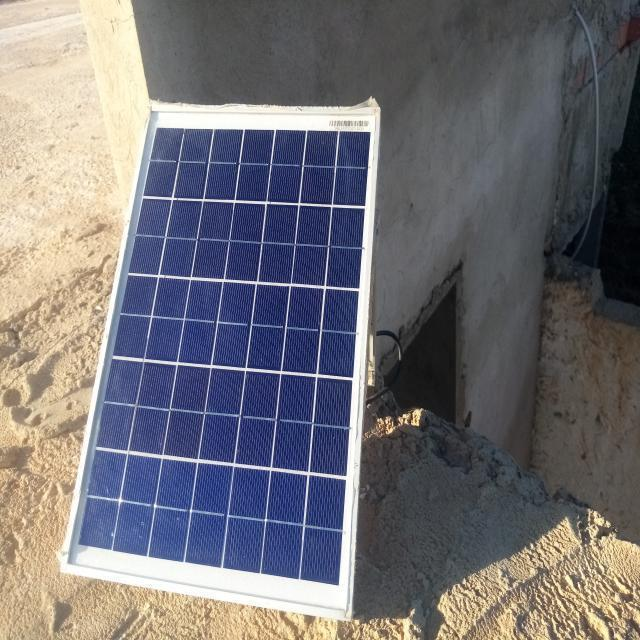Normal Solar Panel: (62, 105, 378, 617)
